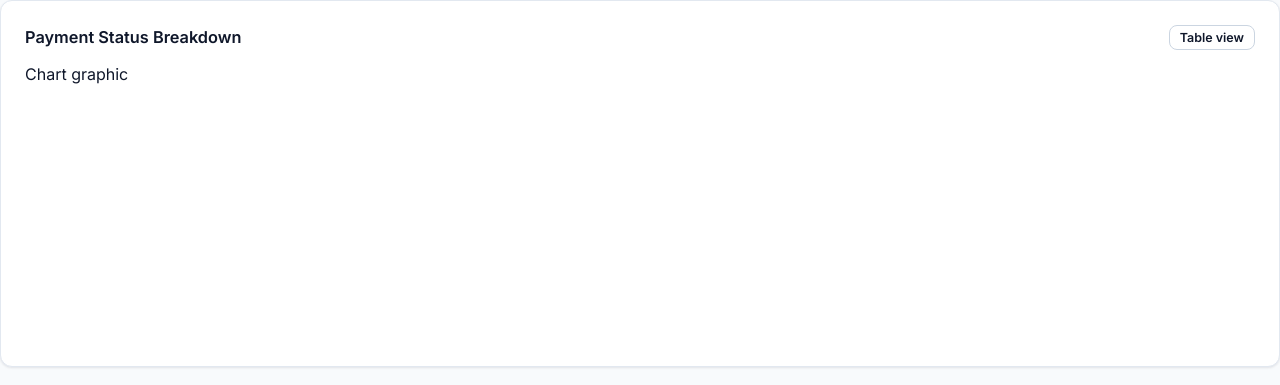
Test case: ChartCard › switches to accessible data-table fallback view
Click the button "Table view".
click(1212, 38)  # box [1169,25,1255,50]
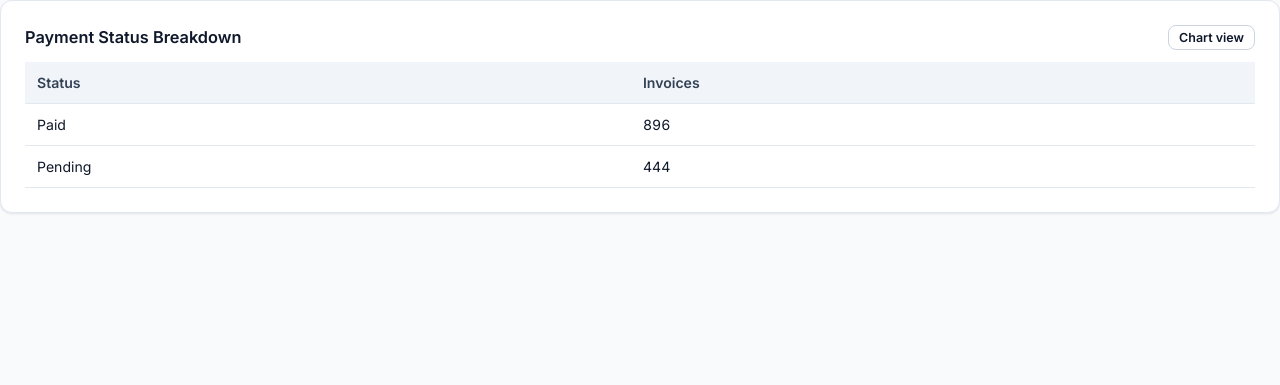
Check: the table is shown, box [25,62,1255,188]
Check: the text "896" is shown, box [631,104,1255,146]
